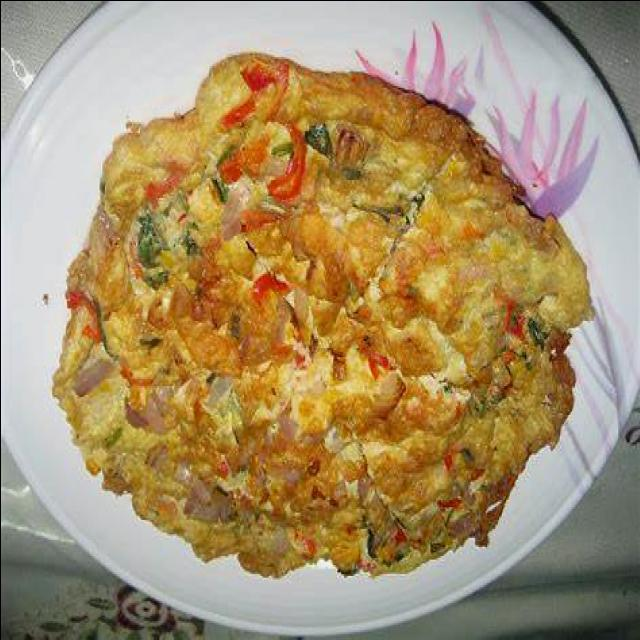telur dadar: (47, 47, 594, 579)
